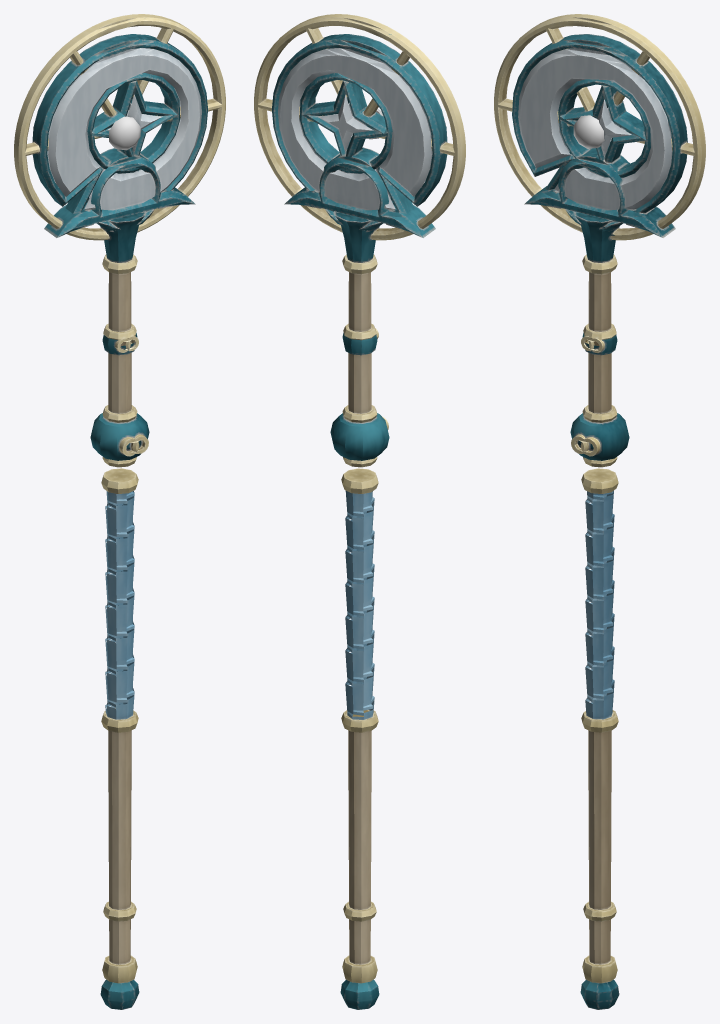
Rendered from Gatewarden Staff.fbx.
3 views of the same model, side by side, from view 1: azimuth 30°, elevation 25°; view 2: azimuth 150°, elevation 25°; view 3: azimuth 330°, elevation 25° (orthographic).
Visible parts, largest first — view 1: Gatewarden Staff_Body, Gatewarden Staff_Glow; view 2: Gatewarden Staff_Body; view 3: Gatewarden Staff_Body, Gatewarden Staff_Glow.
Boxes of the visible parts, bbox=[...] form: Gatewarden Staff_Body: bbox=[14, 14, 225, 1009]; Gatewarden Staff_Glow: bbox=[109, 116, 140, 150]; Gatewarden Staff_Body: bbox=[254, 14, 465, 1009]; Gatewarden Staff_Body: bbox=[494, 14, 705, 1009]; Gatewarden Staff_Glow: bbox=[573, 115, 604, 148].
Size of the model in its own units: 1.31 by 5.97 by 0.352.
